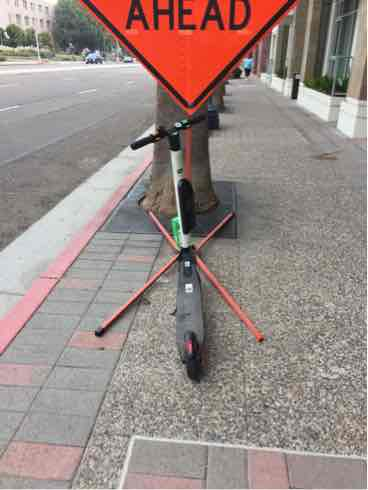scooter: (127, 105, 255, 384)
